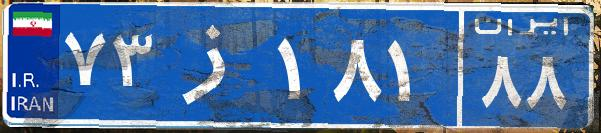1: (385, 28, 445, 110), (273, 28, 330, 110)
3: (110, 28, 158, 105)
7: (57, 26, 110, 107)
8: (330, 28, 385, 110), (475, 38, 525, 113), (525, 38, 570, 115)
ز: (158, 15, 273, 115)
